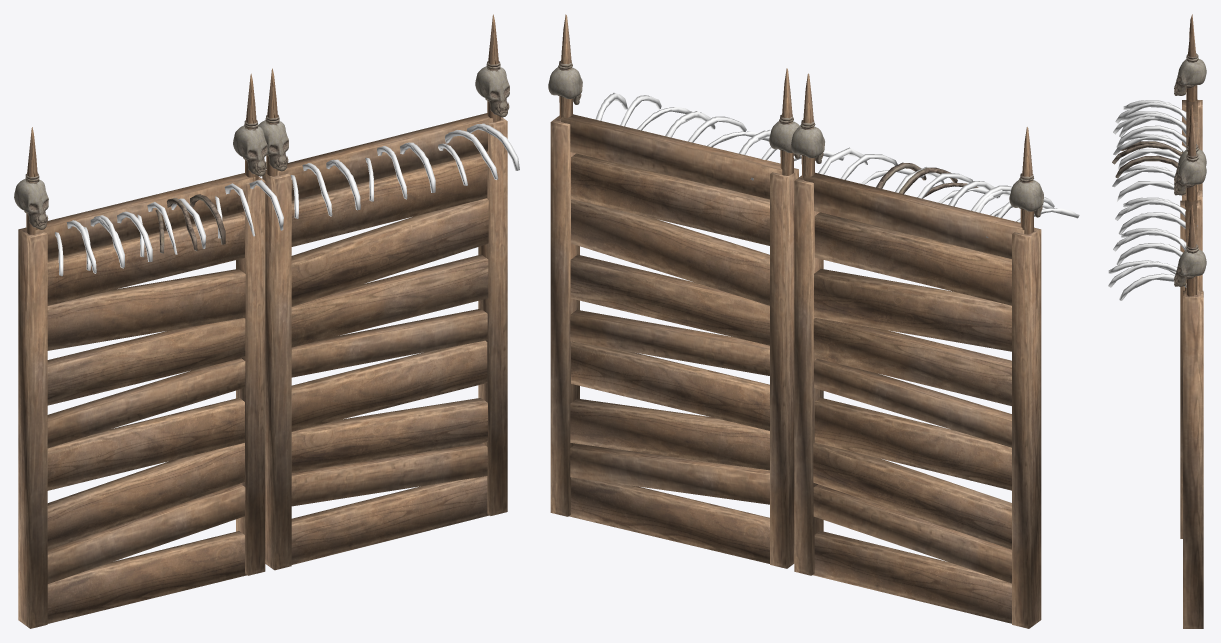
The model's file is porton2.fbx.
3 views of the same model, side by side, from view 1: azimuth 30°, elevation 25°; view 2: azimuth 150°, elevation 25°; view 3: azimuth 270°, elevation 25° (orthographic). The views are drawn at different scales.
Visible parts, largest first — view 1: Housing_Wall_1A3, Housing_Wall_1A3.001, Skull_On_Post_1A6, Skull_On_Post_1A6.003, Skull_On_Post_1A6.001, Skull_On_Post_1A6.002, Meat_Bones_1A1.002, Meat_Bones_1A1.005, Meat_Bones_1A1.001, Meat_Bones_1A1_001.002, Meat_Bones_1A1.004, Meat_Bones_1A1 (+2 smaller); view 2: Housing_Wall_1A3, Housing_Wall_1A3.001, Skull_On_Post_1A6, Skull_On_Post_1A6.003, Skull_On_Post_1A6.001, Skull_On_Post_1A6.002, Meat_Bones_1A1_001.002, Meat_Bones_1A1.002, Meat_Bones_1A1.004, Meat_Bones_1A1.005, Meat_Bones_1A1_001.001; view 3: Housing_Wall_1A3.001, Skull_On_Post_1A6.003, Skull_On_Post_1A6.002, Skull_On_Post_1A6, Meat_Bones_1A1.001, Housing_Wall_1A3, Meat_Bones_1A1, Meat_Bones_1A1_001.001, Meat_Bones_1A1.002, Meat_Bones_1A1_001.002, Meat_Bones_1A1.004, Meat_Bones_1A1.003 (+5 smaller).
Part boxes in pixels (left/top/right/bottom): Housing_Wall_1A3: left=18, top=173, right=265, bottom=628; Housing_Wall_1A3.001: left=262, top=113, right=507, bottom=570; Skull_On_Post_1A6: left=14, top=127, right=48, bottom=234; Skull_On_Post_1A6.003: left=475, top=14, right=509, bottom=122; Skull_On_Post_1A6.001: left=233, top=73, right=267, bottom=181; Skull_On_Post_1A6.002: left=258, top=68, right=288, bottom=176; Meat_Bones_1A1.002: left=155, top=194, right=225, bottom=253; Meat_Bones_1A1.005: left=438, top=124, right=519, bottom=185; Meat_Bones_1A1.001: left=84, top=211, right=152, bottom=270; Meat_Bones_1A1_001.002: left=215, top=180, right=283, bottom=238; Meat_Bones_1A1.004: left=365, top=142, right=435, bottom=201; Meat_Bones_1A1: left=55, top=217, right=124, bottom=275; Housing_Wall_1A3: left=794, top=172, right=1041, bottom=628; Housing_Wall_1A3.001: left=550, top=114, right=798, bottom=568; Skull_On_Post_1A6: left=1009, top=127, right=1043, bottom=234; Skull_On_Post_1A6.003: left=548, top=14, right=582, bottom=118; Skull_On_Post_1A6.001: left=791, top=73, right=824, bottom=179; Skull_On_Post_1A6.002: left=769, top=68, right=800, bottom=175; Meat_Bones_1A1_001.002: left=818, top=147, right=924, bottom=184; Meat_Bones_1A1.002: left=876, top=162, right=978, bottom=198; Meat_Bones_1A1.004: left=665, top=112, right=769, bottom=147; Meat_Bones_1A1.005: left=595, top=94, right=689, bottom=130; Meat_Bones_1A1_001.001: left=895, top=167, right=1000, bottom=203; Housing_Wall_1A3.001: left=1180, top=200, right=1203, bottom=628; Skull_On_Post_1A6.003: left=1174, top=205, right=1206, bottom=296; Skull_On_Post_1A6.002: left=1174, top=113, right=1206, bottom=202; Skull_On_Post_1A6: left=1174, top=14, right=1206, bottom=102; Meat_Bones_1A1.001: left=1113, top=111, right=1186, bottom=147; Housing_Wall_1A3: left=1182, top=99, right=1202, bottom=290; Meat_Bones_1A1: left=1115, top=100, right=1198, bottom=137; Meat_Bones_1A1_001.001: left=1113, top=133, right=1186, bottom=169; Meat_Bones_1A1.002: left=1112, top=141, right=1182, bottom=178; Meat_Bones_1A1_001.002: left=1112, top=165, right=1181, bottom=201; Meat_Bones_1A1.004: left=1113, top=228, right=1186, bottom=265; Meat_Bones_1A1.003: left=1115, top=197, right=1197, bottom=234.
Size of what is drawn, in the model's own units: 686 by 669 by 141.
Materials: 5 (4 with a texture image).
